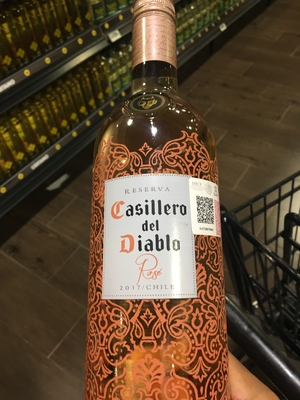casillero del diablo rose: (88, 8, 248, 400)
